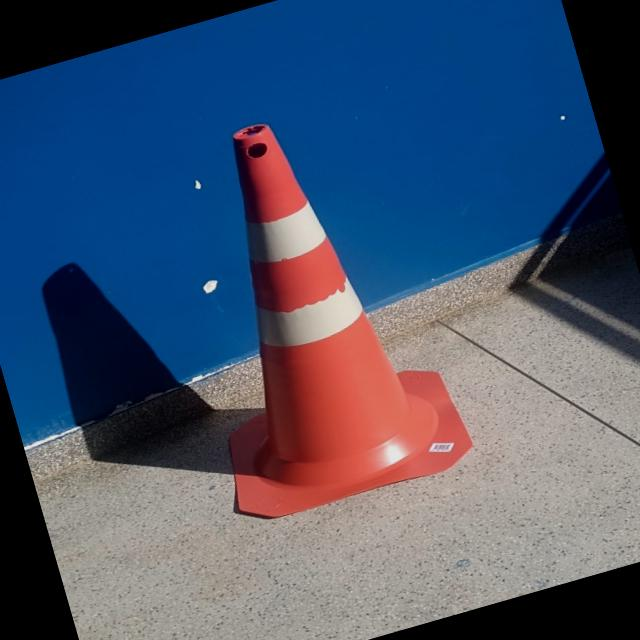cone: (93, 66, 506, 541)
